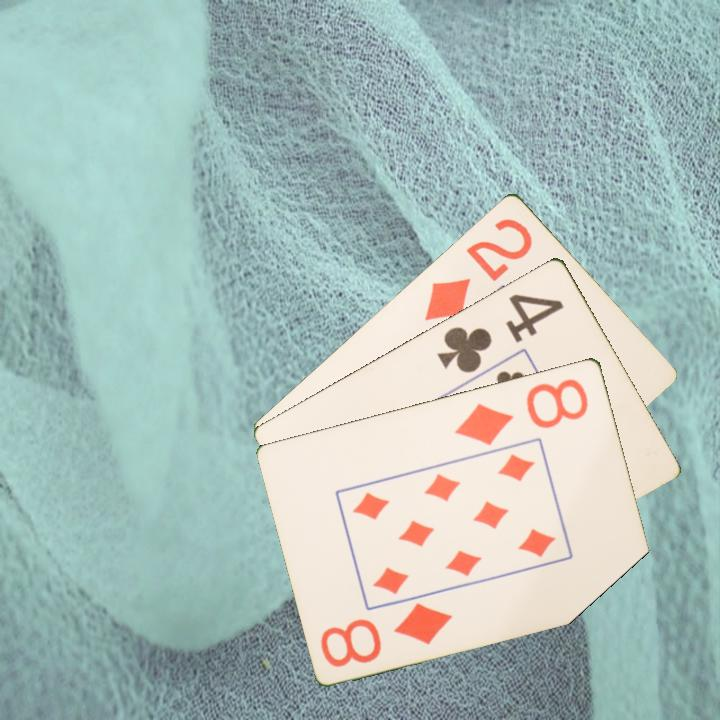2d: (420, 213, 536, 324)
4c: (433, 289, 567, 376)
8d: (451, 374, 592, 448), (317, 598, 456, 670)
